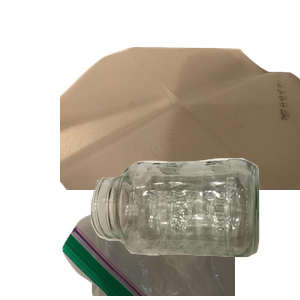glass: (88, 156, 300, 300)
metal: (90, 44, 289, 195)
plastic: (60, 44, 300, 224)
trash: (60, 120, 300, 300)
